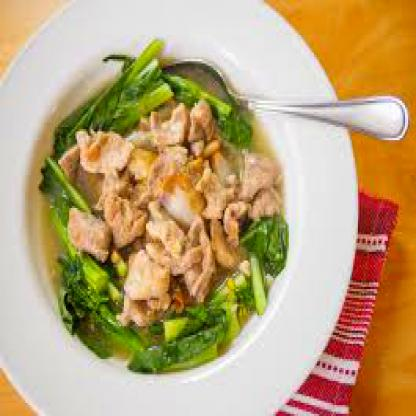Laadna: (28, 28, 295, 366)
